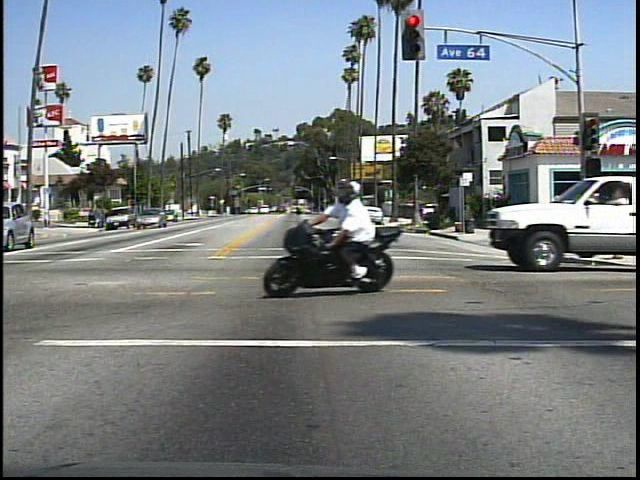person: (320, 175, 396, 286), (545, 192, 573, 245)
